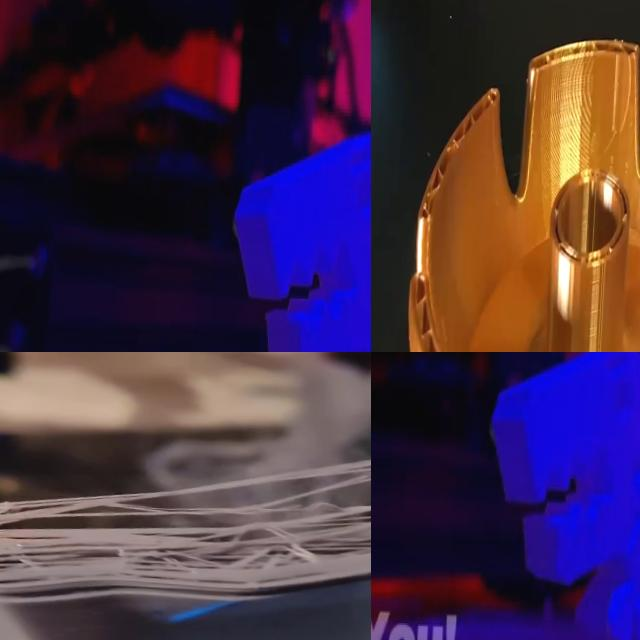spaghetti: (0, 387, 371, 624)
